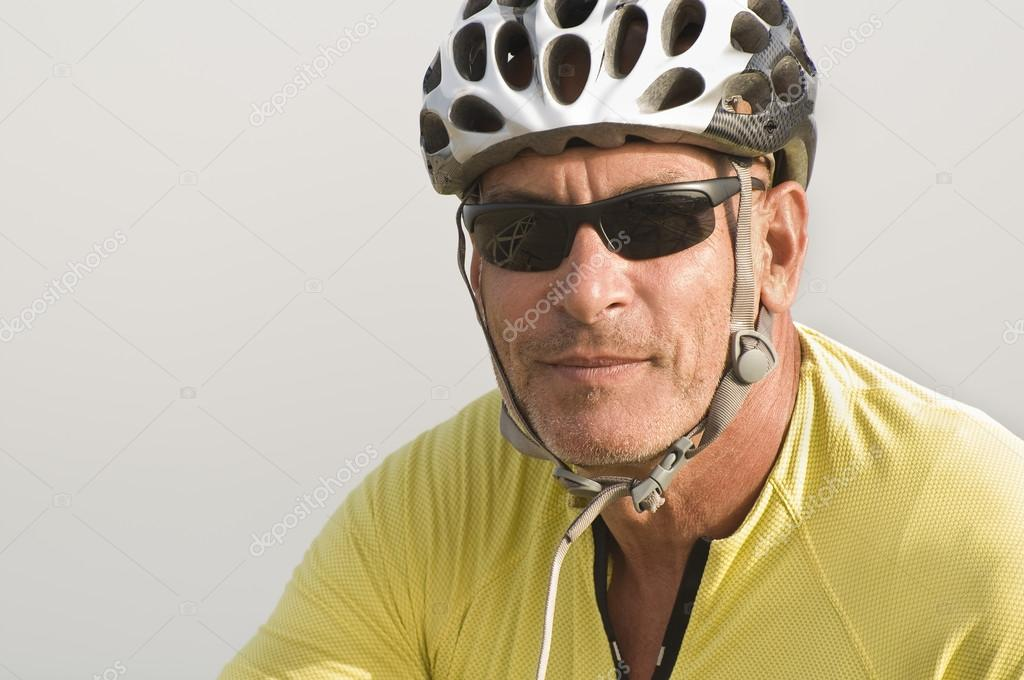helmet: (420, 1, 819, 466)
